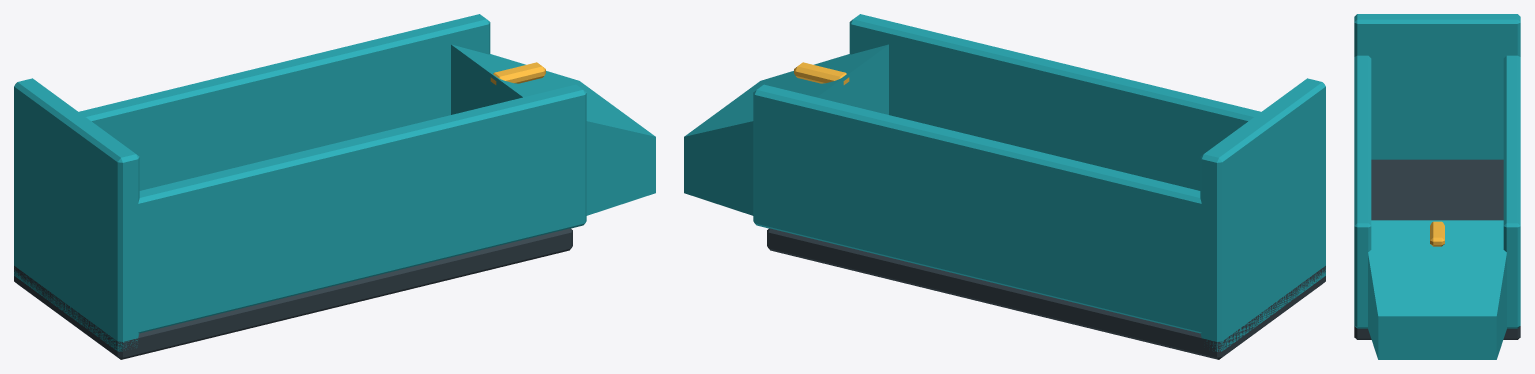
File: placeholder-car-shell.glb
The picture shows the model from 3 angles, left to right: view 1: azimuth 30°, elevation 25°; view 2: azimuth 150°, elevation 25°; view 3: azimuth 270°, elevation 25°; orthographic projection. The views are drawn at different scales.
Parts seen in each view (by area): view 1: QUANTUM_Placeholder_Car_Shell; view 2: QUANTUM_Placeholder_Car_Shell; view 3: QUANTUM_Placeholder_Car_Shell.
Boxes of the visible parts, x1,y1,x2,y2 form: QUANTUM_Placeholder_Car_Shell: [14, 14, 655, 359]; QUANTUM_Placeholder_Car_Shell: [684, 14, 1325, 359]; QUANTUM_Placeholder_Car_Shell: [1354, 14, 1520, 359].
Size of the model in its own units: 4 by 1.4 by 1.35.
